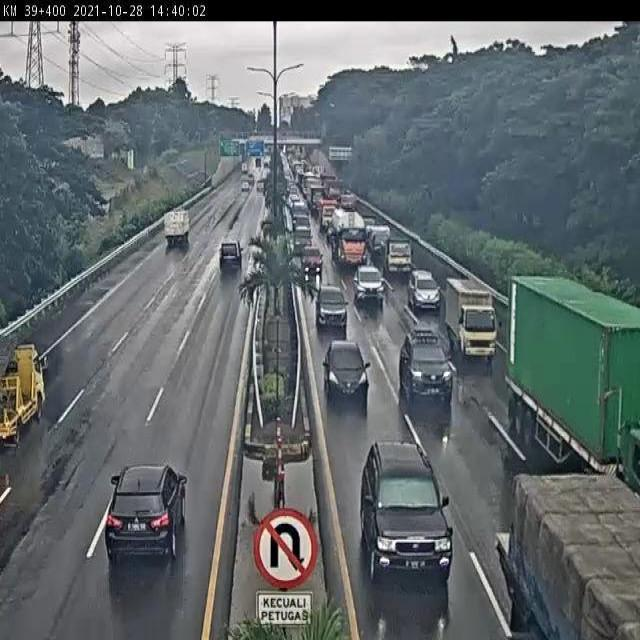car: (353, 443, 446, 583), (103, 464, 188, 563), (400, 332, 455, 404), (323, 343, 372, 403), (315, 285, 350, 331), (407, 267, 439, 309), (351, 263, 384, 303), (216, 238, 243, 270), (298, 239, 322, 269)
truck: (509, 275, 640, 480), (446, 281, 500, 364), (328, 205, 369, 271), (157, 208, 189, 251), (383, 238, 414, 278)
